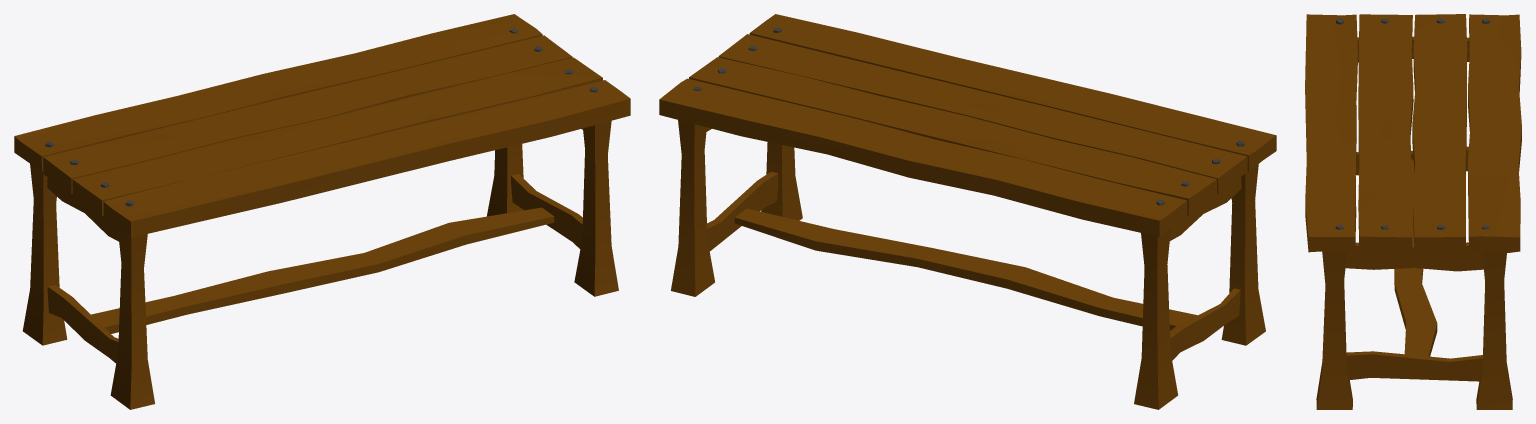
Rendered from Table.fbx.
3 renders of one model, left to right at view 1: azimuth 30°, elevation 25°; view 2: azimuth 150°, elevation 25°; view 3: azimuth 270°, elevation 25°, orthographic. The views are drawn at different scales.
Visible parts, largest first — view 1: Table_Cube.011; view 2: Table_Cube.011; view 3: Table_Cube.011.
Boxes of the visible parts, <box> form: Table_Cube.011: <box>14,14,630,409</box>; Table_Cube.011: <box>659,14,1276,409</box>; Table_Cube.011: <box>1305,14,1521,409</box>.
Bounding box in the file's own units: 200 × 74.58 × 82.31.
